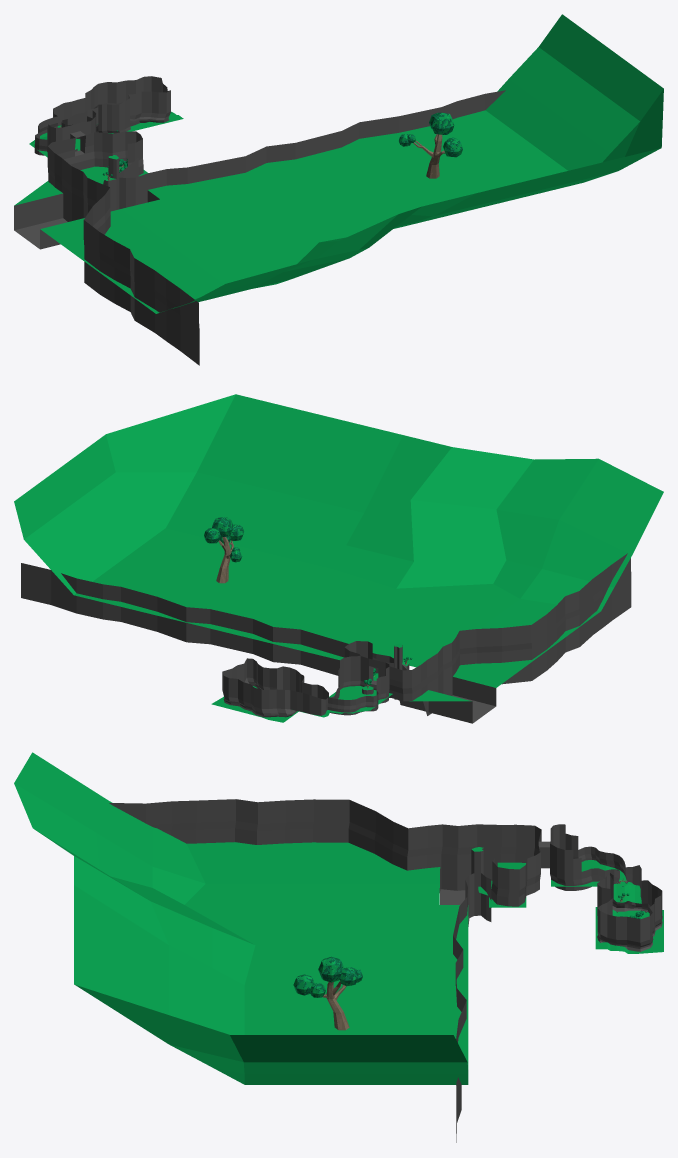
Rendered from tutorial4.fbx.
3 renders of one model, top to bottom at view 1: azimuth 30°, elevation 25°; view 2: azimuth 150°, elevation 25°; view 3: azimuth 270°, elevation 25°, orthographic. The views are drawn at different scales.
Parts seen in each view (by area): view 1: CLIFF, LEDGE.001, TREE.022; view 2: CLIFF, LEDGE.001, CLIFF.001; view 3: CLIFF, LEDGE.001, CLIFF.001, GROUND, TREE.022.
Boxes of the visible parts, x1,y1,x2,y2 form: CLIFF: (14, 14, 663, 365); LEDGE.001: (103, 90, 505, 211); TREE.022: (413, 134, 445, 178); CLIFF: (14, 394, 663, 723); LEDGE.001: (21, 563, 409, 700); CLIFF.001: (299, 686, 392, 717); CLIFF: (14, 752, 662, 1084); LEDGE.001: (453, 847, 491, 1142); CLIFF.001: (551, 860, 641, 903); GROUND: (595, 907, 663, 953); TREE.022: (323, 981, 349, 1030).
Size of the model in its own units: 66426 by 14100 by 64396.
24 materials, 24 textured.
